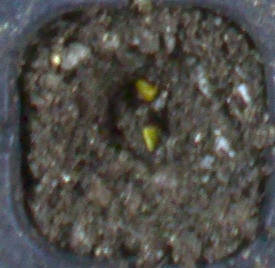pepper seed: (59, 47, 222, 200), (54, 27, 212, 130)
